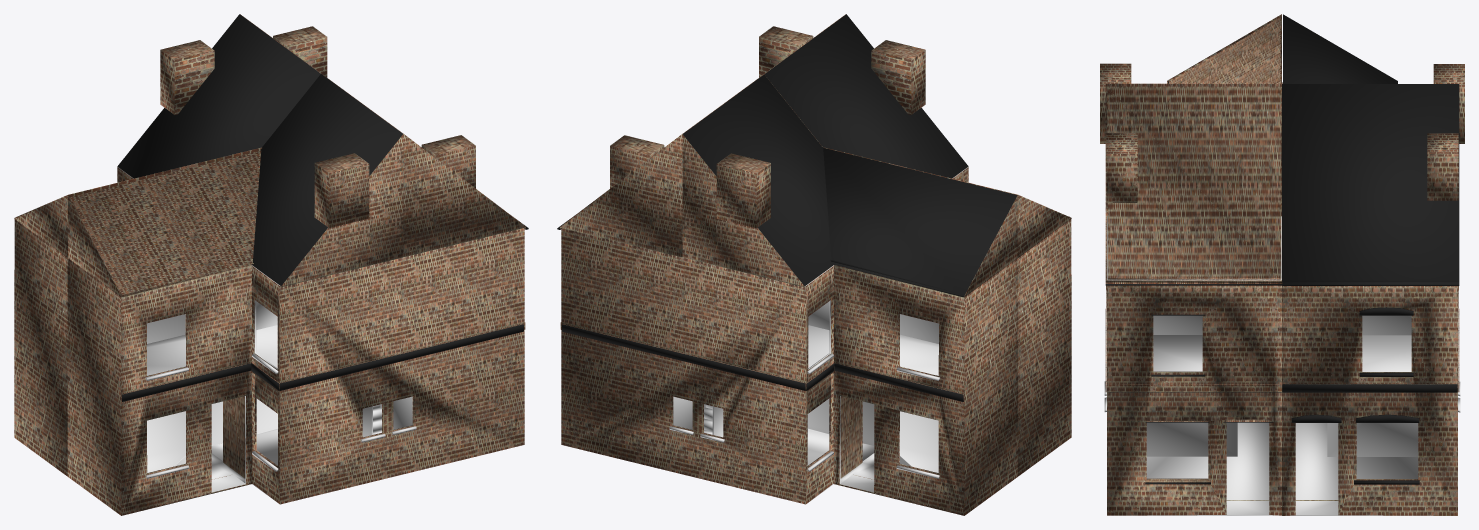
The model's file is terrace.glb.
3 views of the same model, side by side, from view 1: azimuth 30°, elevation 25°; view 2: azimuth 150°, elevation 25°; view 3: azimuth 270°, elevation 25° (orthographic). The views are drawn at different scales.
Parts seen in each view (by area): view 1: Cube.001; view 2: Cube.001; view 3: Cube.001.
Part boxes in pixels (<box>): Cube.001: <box>14,14,528,515</box>; Cube.001: <box>557,14,1071,515</box>; Cube.001: <box>1100,14,1464,515</box>.
Bounding box in the file's own units: 29.4 × 25.27 × 22.71.
4 materials, 1 textured.
